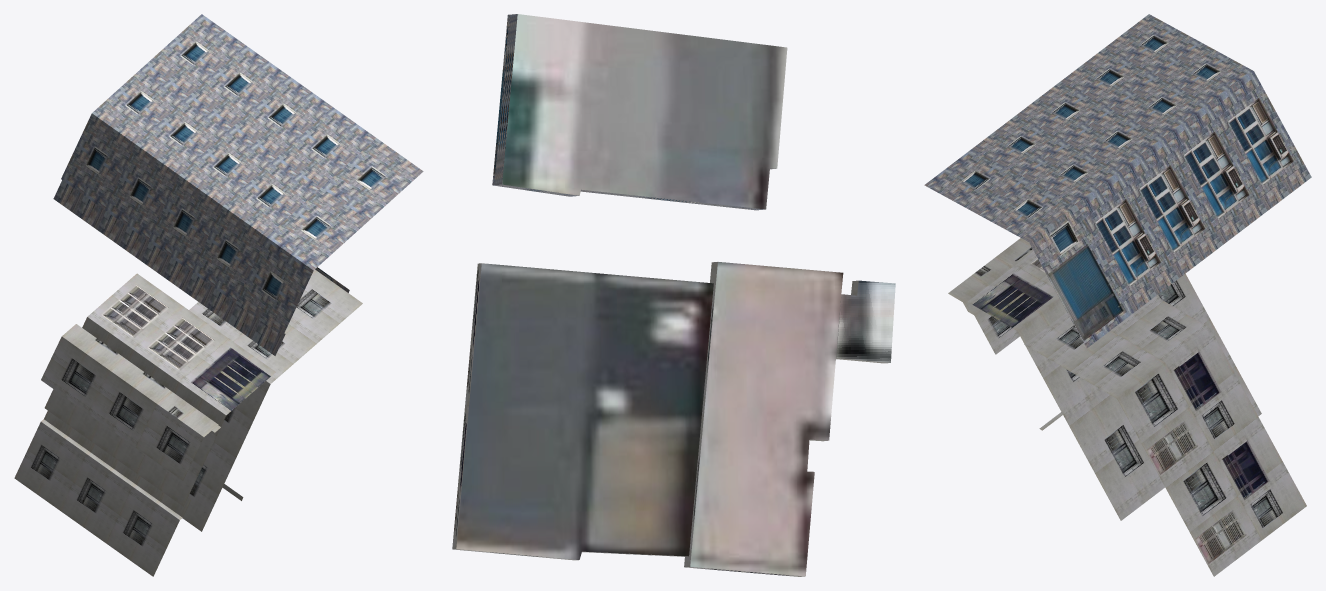
3 views of the same model, side by side, from view 1: azimuth 30°, elevation 25°; view 2: azimuth 150°, elevation 25°; view 3: azimuth 270°, elevation 25° (orthographic). The views are drawn at different scales.
Size of the model in its own units: 21.93 by 28.8 by 20.59.
Materials: 17 (17 with a texture image).
